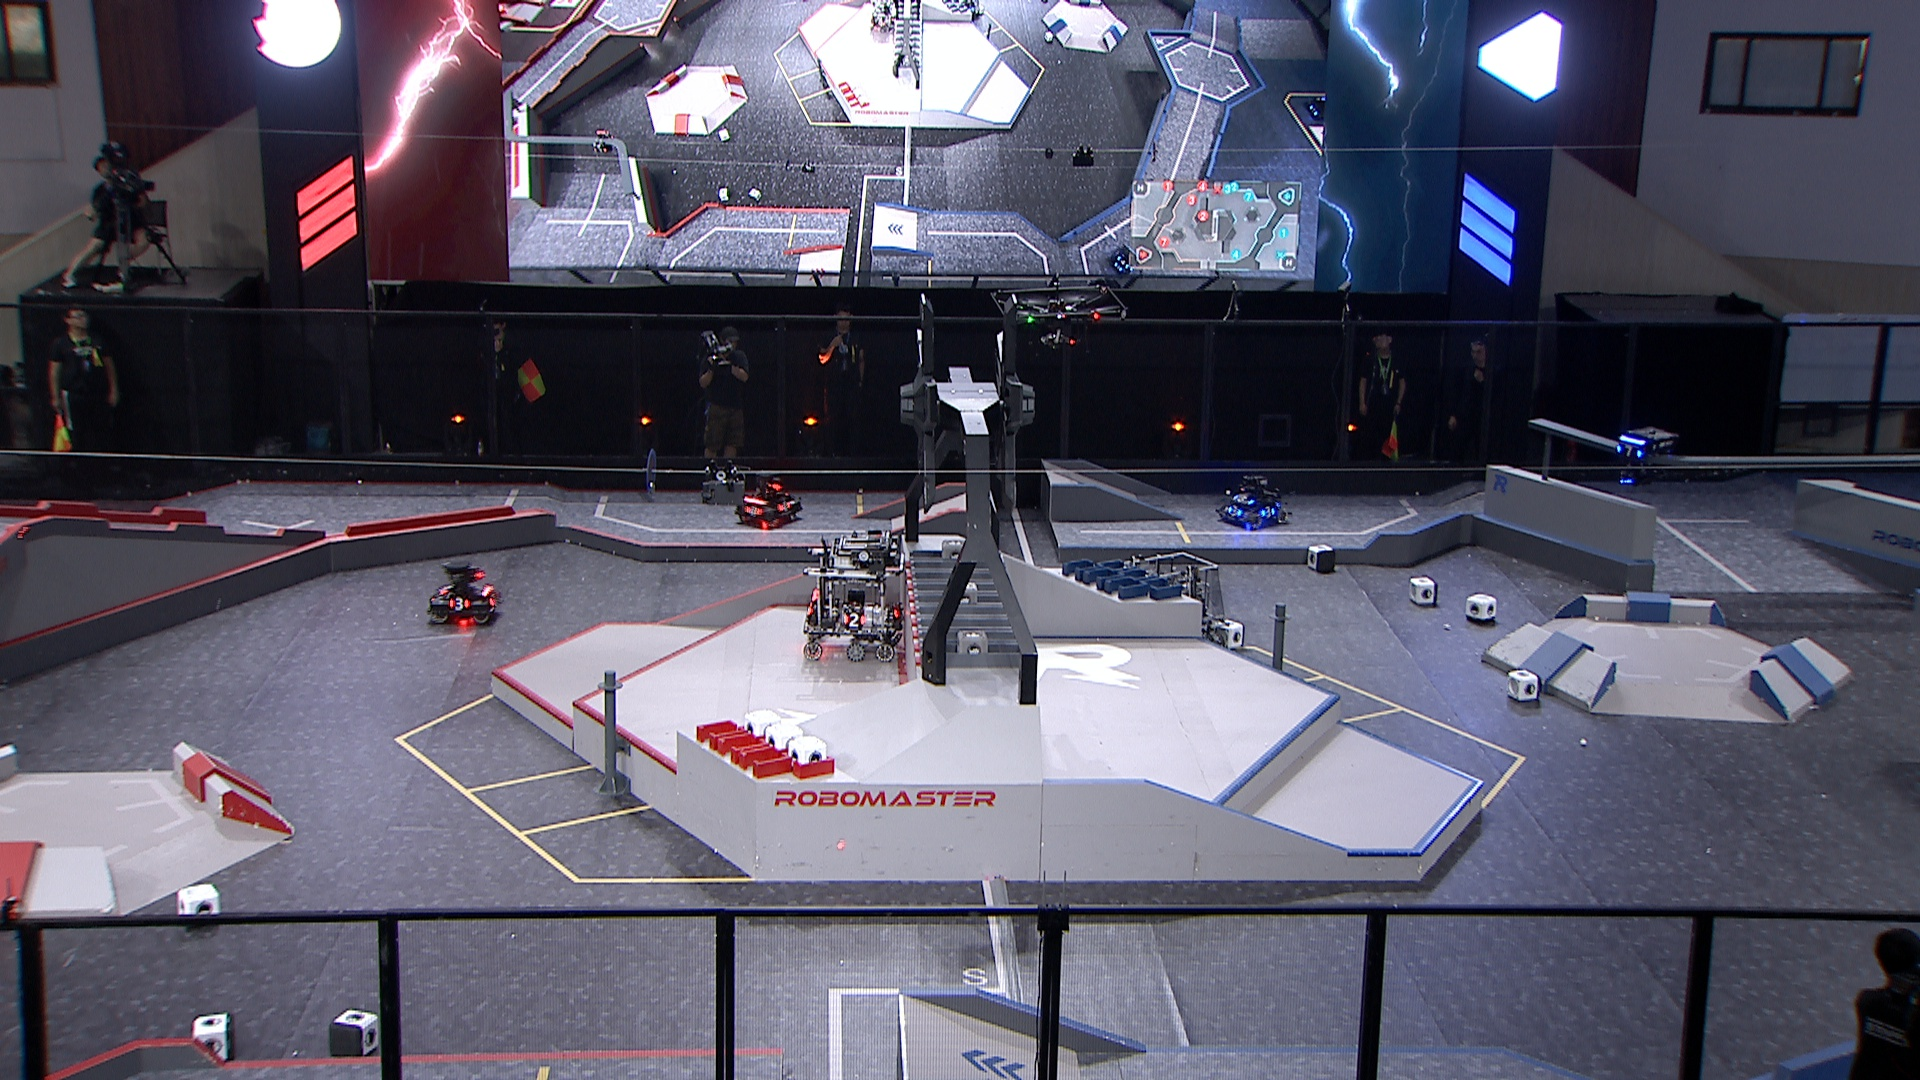armor: (1613, 442, 1643, 460), (840, 612, 868, 629), (446, 597, 469, 612), (1230, 493, 1255, 506), (742, 504, 765, 517), (1258, 505, 1278, 520), (1225, 504, 1244, 518), (774, 500, 793, 513), (485, 589, 498, 608), (436, 582, 455, 595)
car: (803, 527, 903, 662), (1120, 550, 1228, 659), (425, 559, 504, 624), (1212, 473, 1292, 531), (732, 473, 806, 531)
ignore: (870, 0, 897, 32), (1106, 245, 1133, 276), (589, 128, 613, 157), (1307, 91, 1328, 120)
watcher: (1610, 427, 1676, 488)
